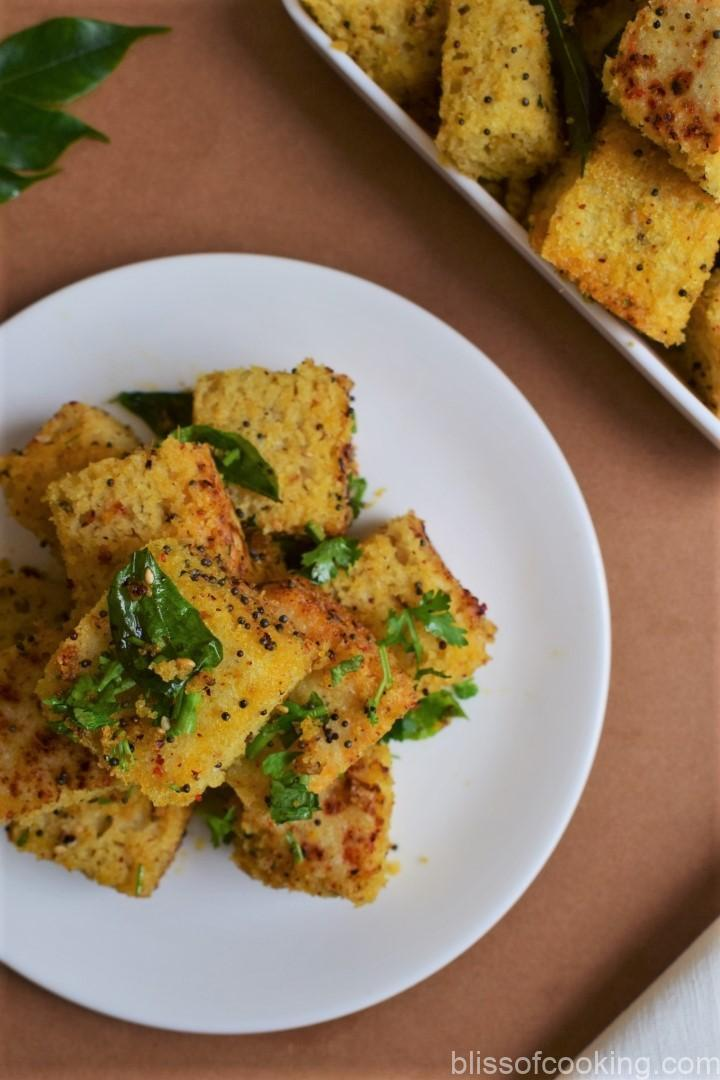dhokla: (7, 378, 493, 899), (360, 0, 720, 322)
